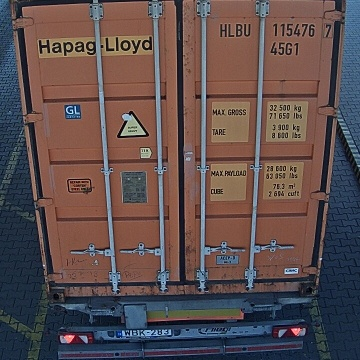serial_id: (220, 23, 332, 36)
